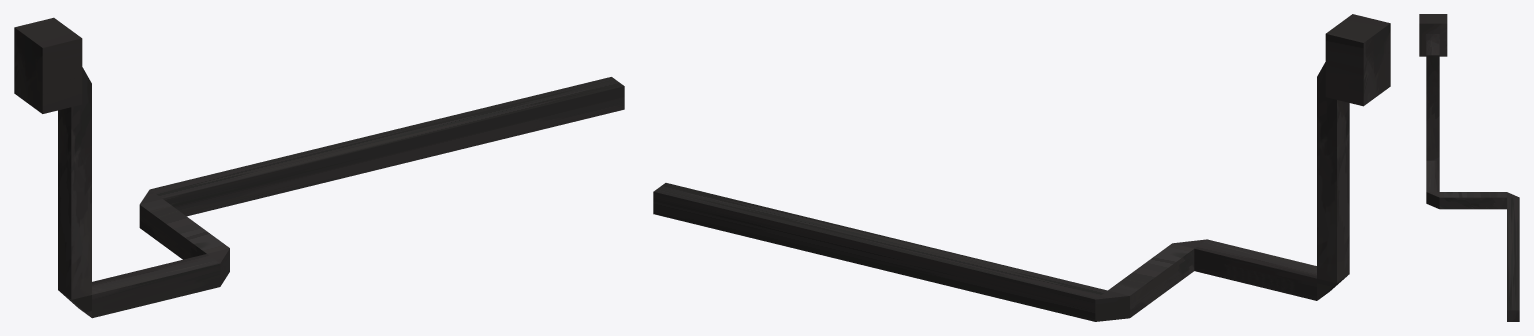
File: M-SocketPlugged.fbx
The picture shows the model from 3 angles, left to right: view 1: azimuth 30°, elevation 25°; view 2: azimuth 150°, elevation 25°; view 3: azimuth 270°, elevation 25°; orthographic projection. The views are drawn at different scales.
Parts seen in each view (by area): view 1: Cube.001; view 2: Cube.001; view 3: Cube.001.
Boxes of the visible parts, bbox=[...] form: Cube.001: bbox=[14, 17, 624, 318]; Cube.001: bbox=[653, 14, 1390, 321]; Cube.001: bbox=[1419, 14, 1519, 321].
Size of the model in its own units: 60.78 by 15.82 by 25.08.
Materials: 1 (1 with a texture image).
